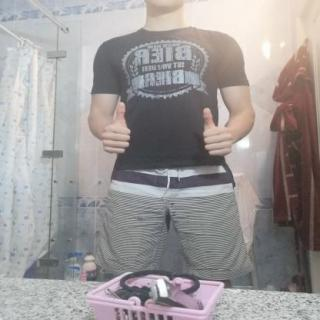ALIF: (188, 101, 242, 162), (93, 99, 138, 156)
